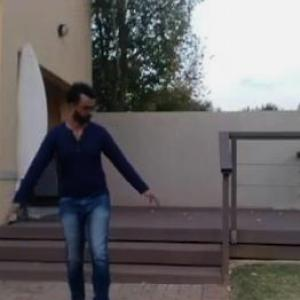land: (5, 66, 162, 299)
